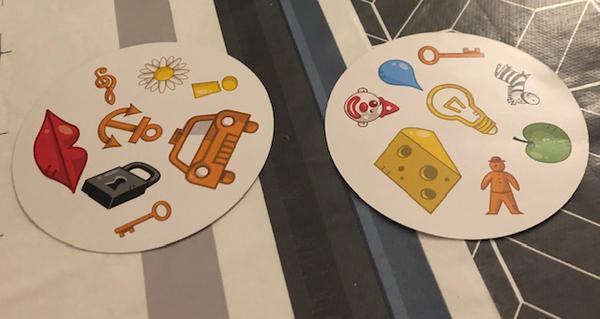ampoule: (418, 77, 499, 135)
ancre: (96, 103, 163, 150)
bonhomme: (477, 154, 524, 219)
bouche: (26, 106, 88, 195)
cle: (113, 199, 174, 239), (414, 43, 491, 68)
clown: (338, 87, 401, 131)
fleur: (134, 52, 190, 96)
fromage: (367, 125, 465, 212)
goutte: (371, 54, 423, 91)
note: (90, 63, 124, 107)
point_exclamation: (186, 74, 241, 101)
pomme: (512, 117, 570, 166)
voiture: (166, 104, 264, 189)
zebre: (492, 61, 543, 107)
